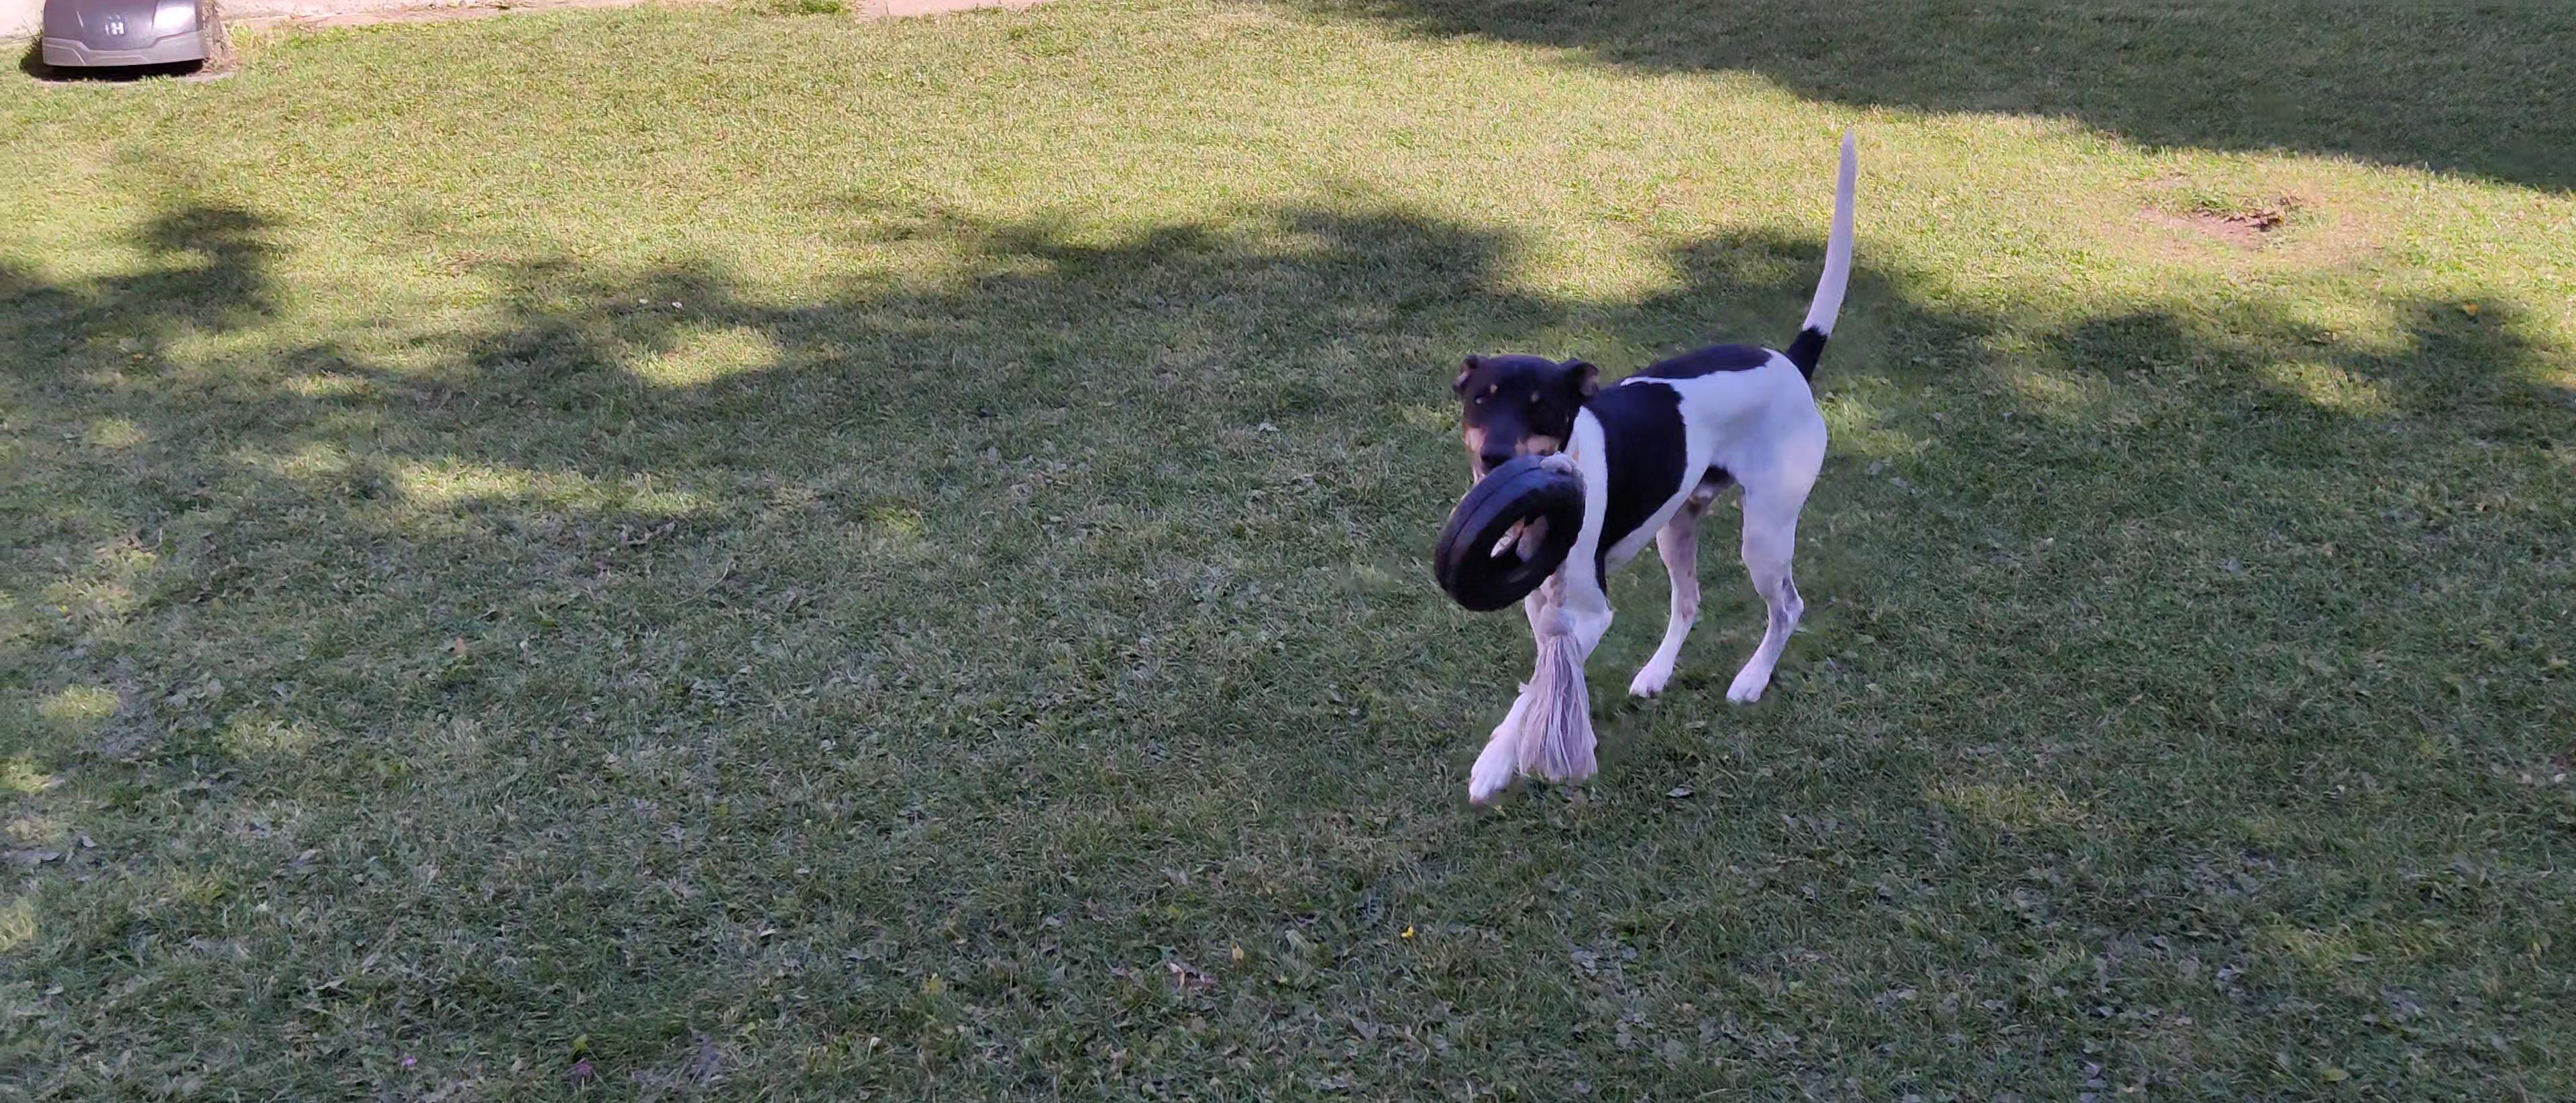Dog: (1416, 122, 1917, 820)
